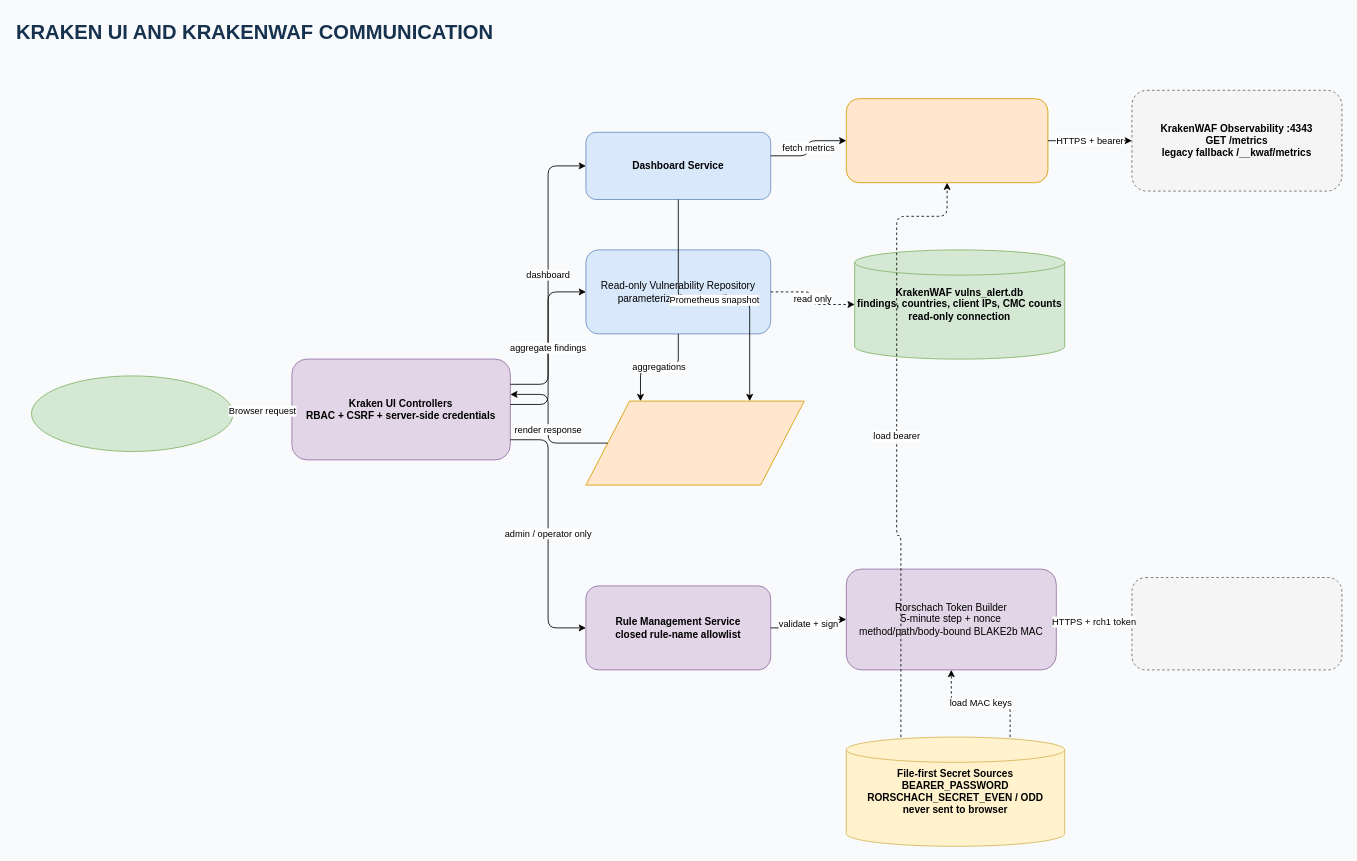
Image size: 1357x861. Some labels were removed from this diagram. The centre of each missing label's shape, as x and y in pixels:
"Authenticated Browser admin / operator / auditor" belongs at (x=132, y=413).
"Combined Dashboard JSON / Askama View live counters + SQLite aggregations" belongs at (x=694, y=442).
"KrakenWAF Rule Management :4342 CMC list/update regex view/update" belongs at (x=1236, y=623).
"Pinned HTTPS Metrics Client Bearer header marked sensitive" belongs at (x=946, y=140).
